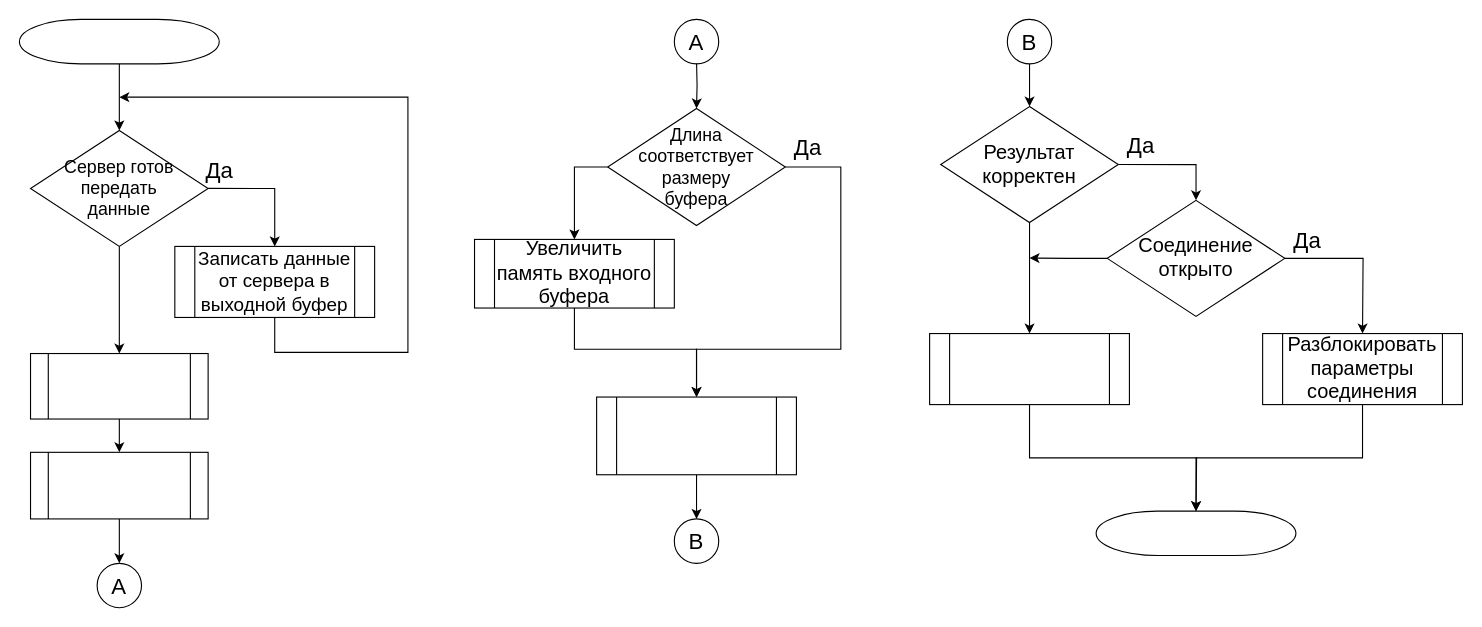
The diagram is 1482 pixels wide and 627 high, and some of its shapes have lost their labels. Here are the shapes that lost their labels. From the top down, the centre of each, then its label:
the point at 118,41: Начало
the point at 118,385: Прочитать тип сообщения
the point at 1029,368: Записать сообщение в буфер ошибок
the point at 696,435: Прочитать сообщение в зависимости от его типа
the point at 118,485: Прочитать длину сообщения
the point at 1195,533: Конец
